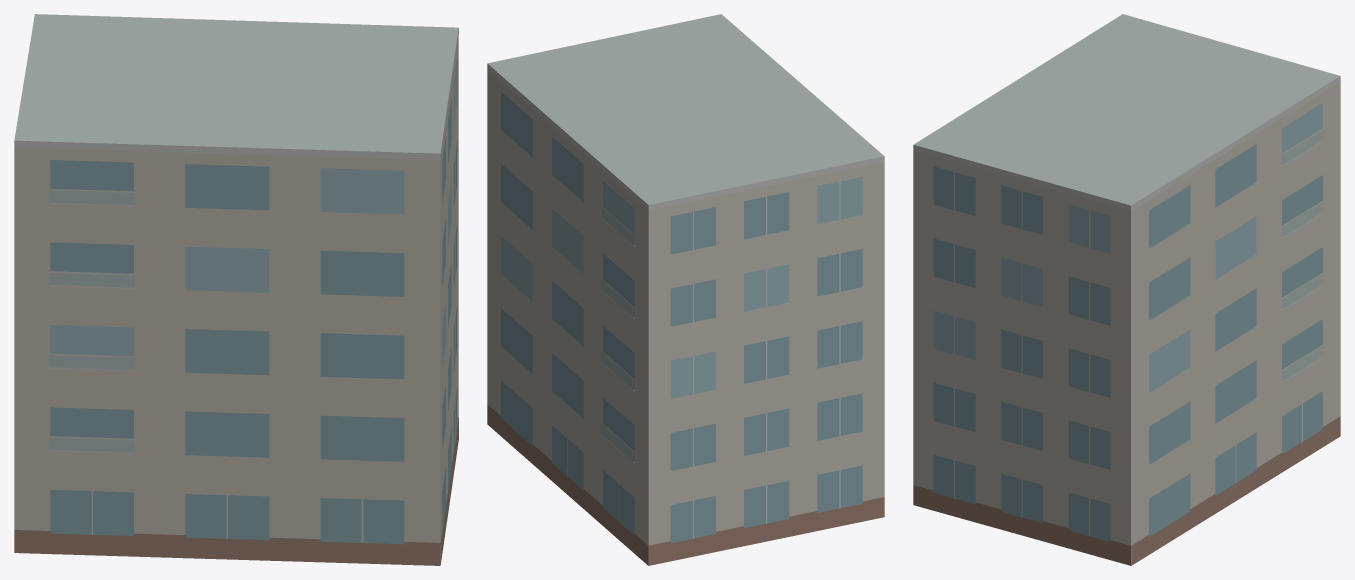
Rendered from survey-upis-32906362.glb.
3 views of the same model, side by side, from view 1: azimuth 30°, elevation 25°; view 2: azimuth 150°, elevation 25°; view 3: azimuth 270°, elevation 25° (orthographic). The views are drawn at different scales.
Visible parts, largest first — view 1: survey-upis-32906362.tmp; view 2: survey-upis-32906362.tmp; view 3: survey-upis-32906362.tmp.
Part boxes in pixels (<box>): survey-upis-32906362.tmp: <box>14,14,458,565</box>; survey-upis-32906362.tmp: <box>487,14,884,565</box>; survey-upis-32906362.tmp: <box>913,14,1340,565</box>.
Bounding box in the file's own units: 17.4 × 15.25 × 16.4.
